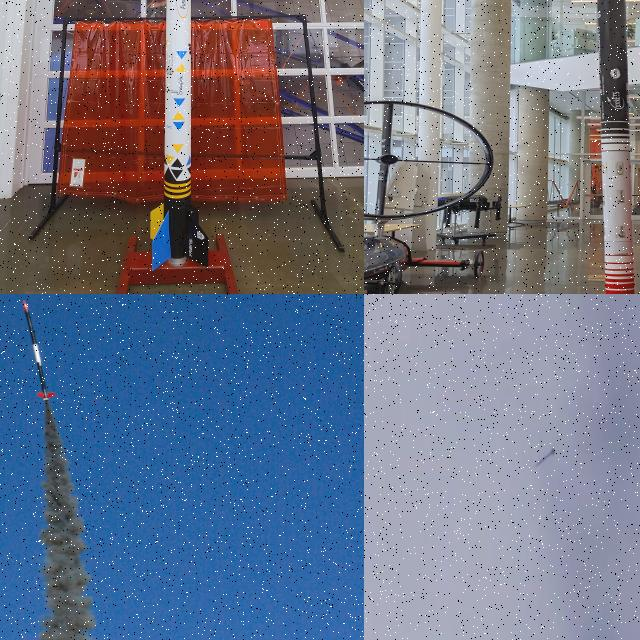Rocket: (150, 0, 209, 272), (597, 0, 635, 294), (21, 299, 55, 402), (534, 446, 556, 468)
